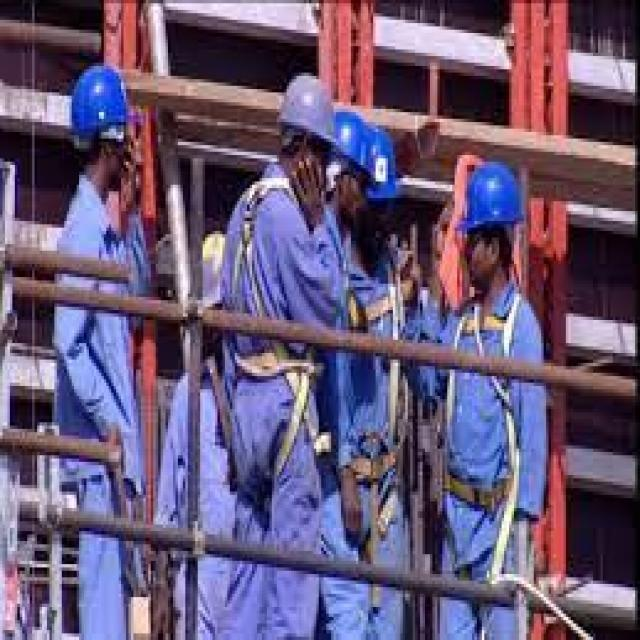belt: (224, 173, 330, 512), (438, 290, 526, 607), (327, 246, 409, 540)
